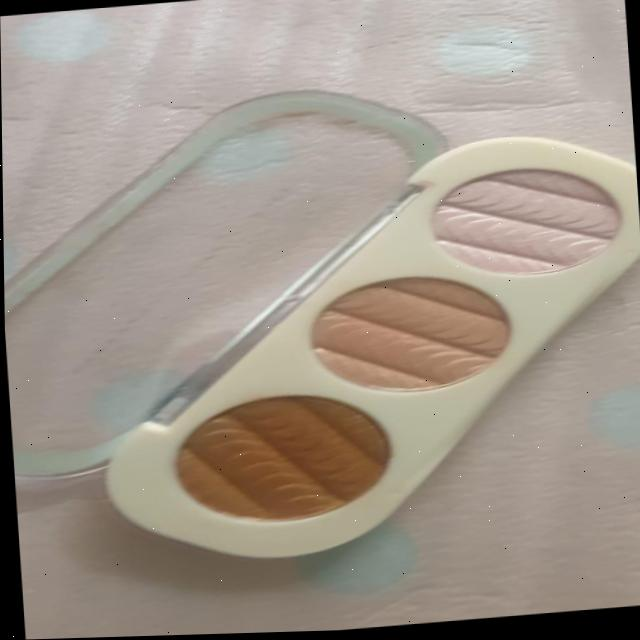highlighter: (59, 144, 640, 586), (160, 386, 405, 536), (285, 275, 519, 404), (418, 157, 635, 288)
